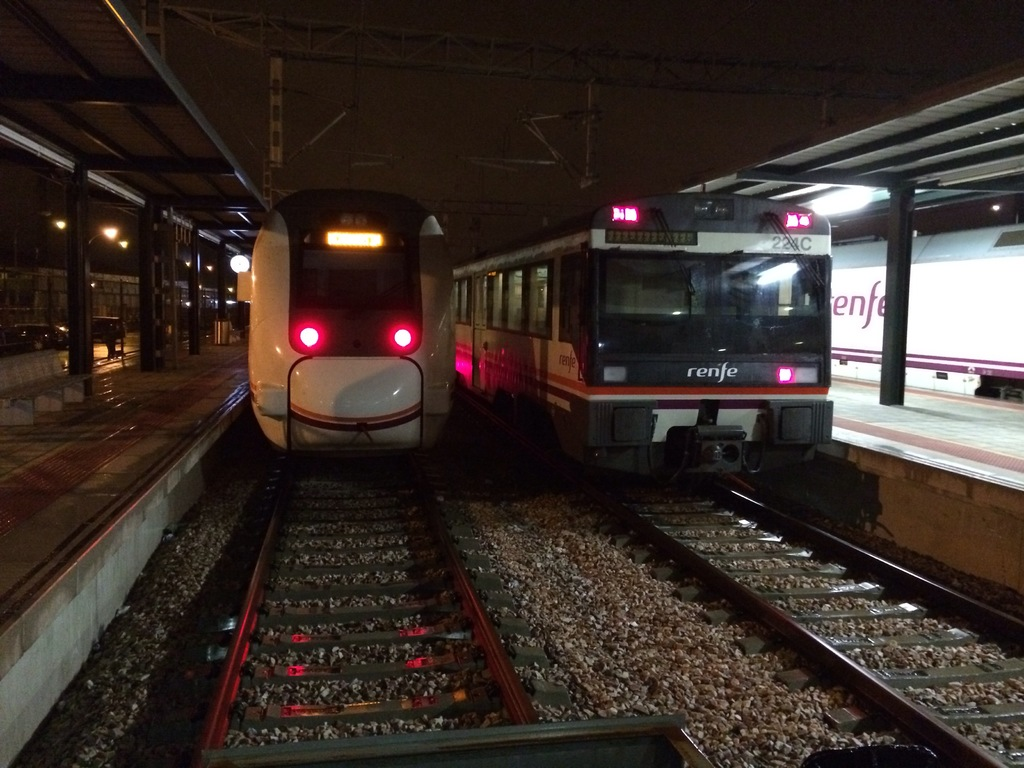train: (247, 187, 455, 466)
